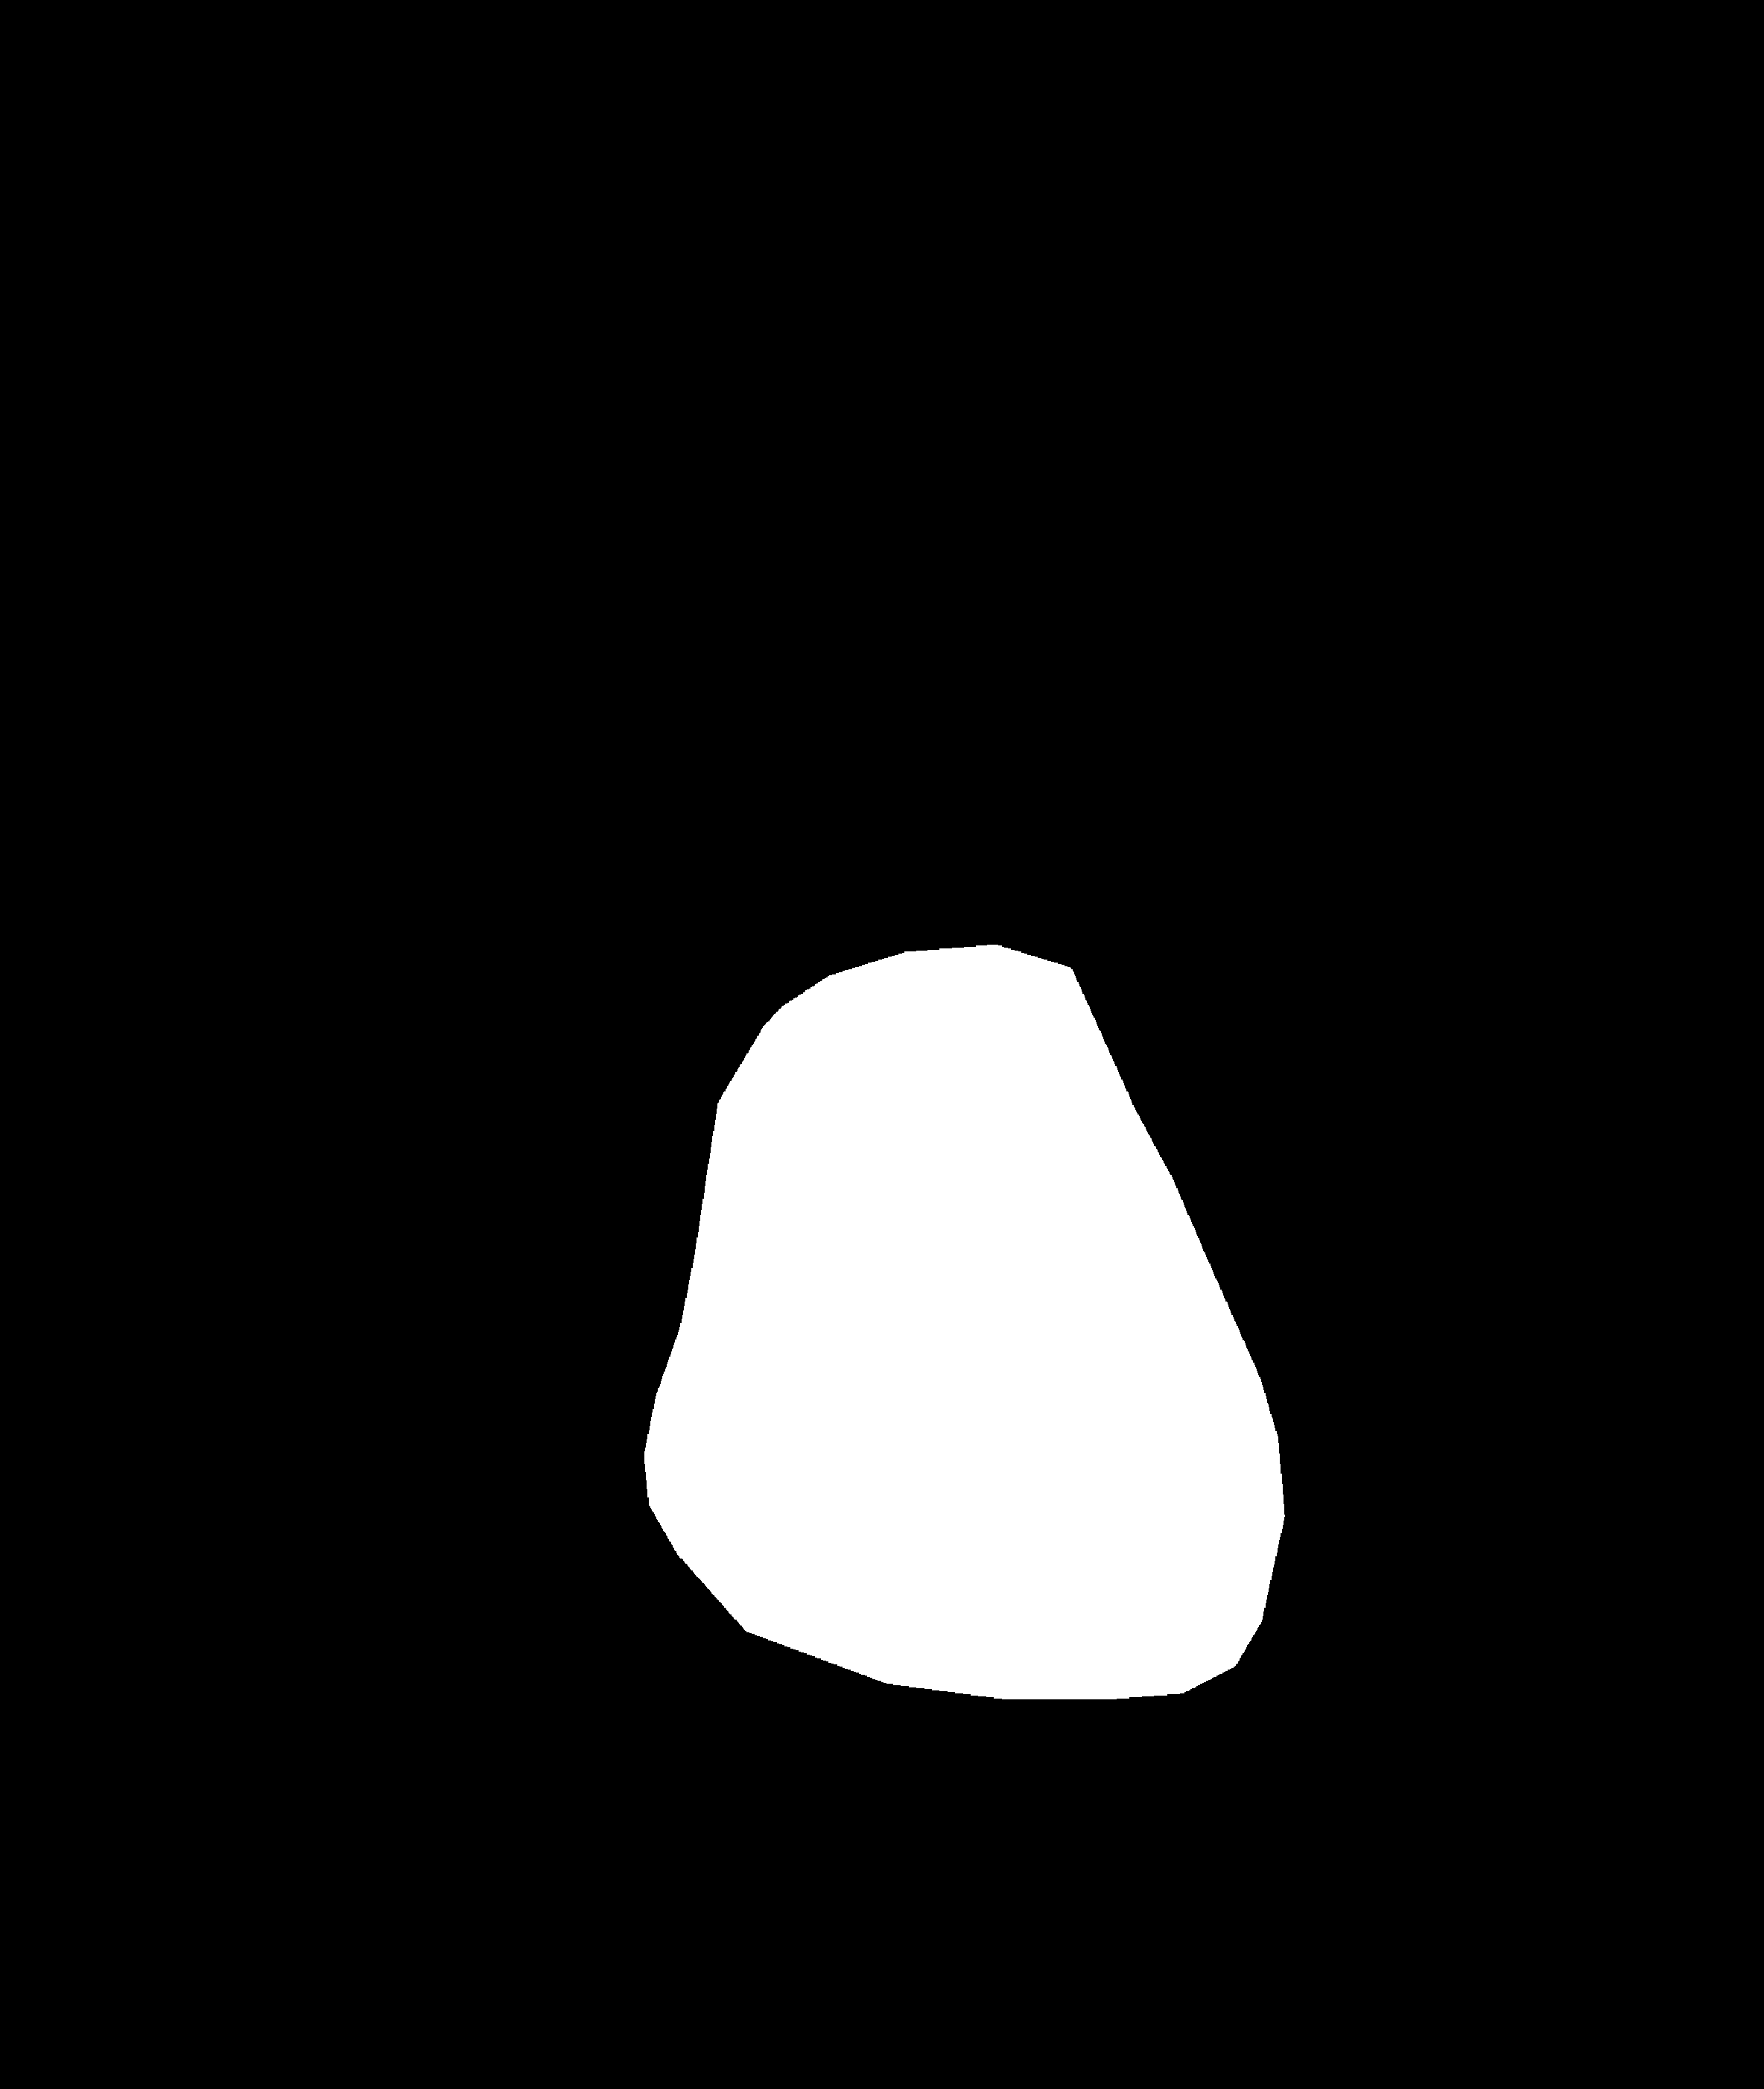heart: (644, 1142, 1277, 1702)
left_lung: (138, 301, 836, 1893)
right_lung: (1001, 271, 1619, 1916)
